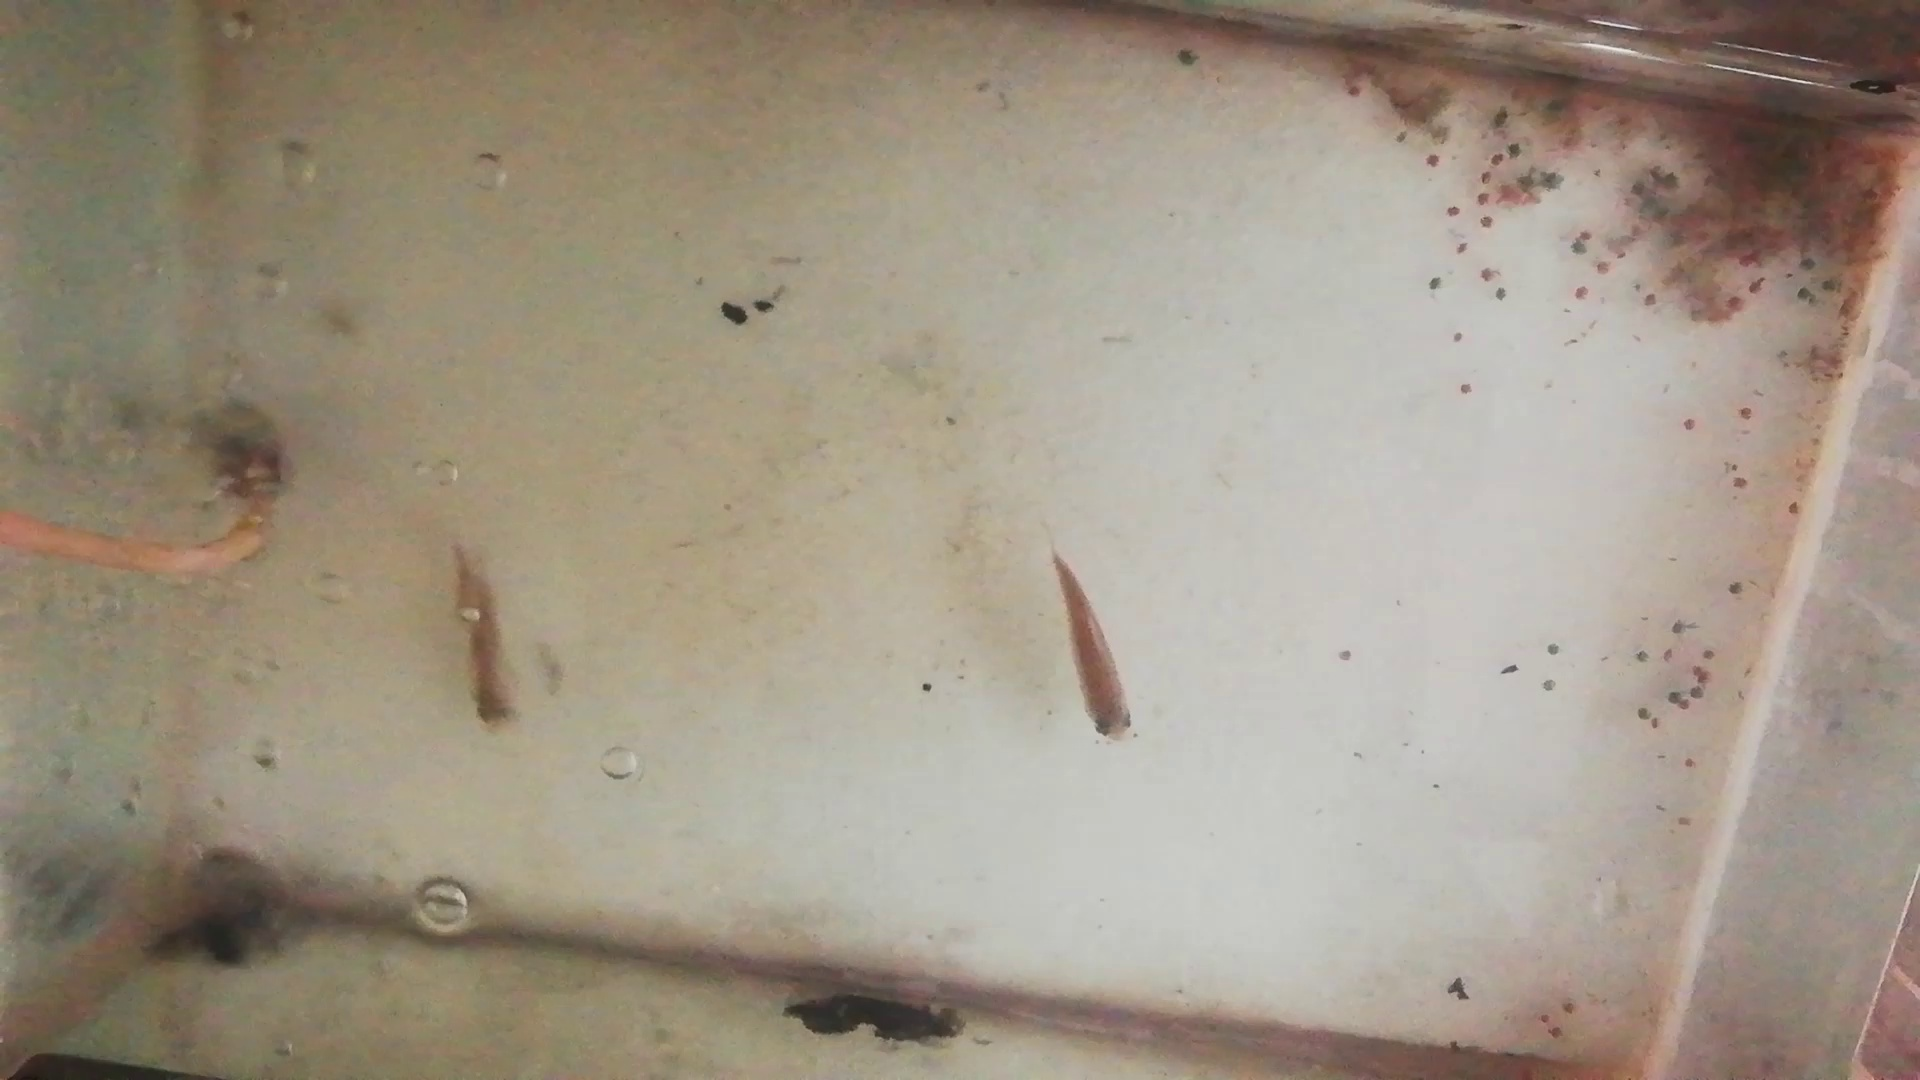fish: (1046, 549, 1134, 738), (448, 535, 520, 733)
